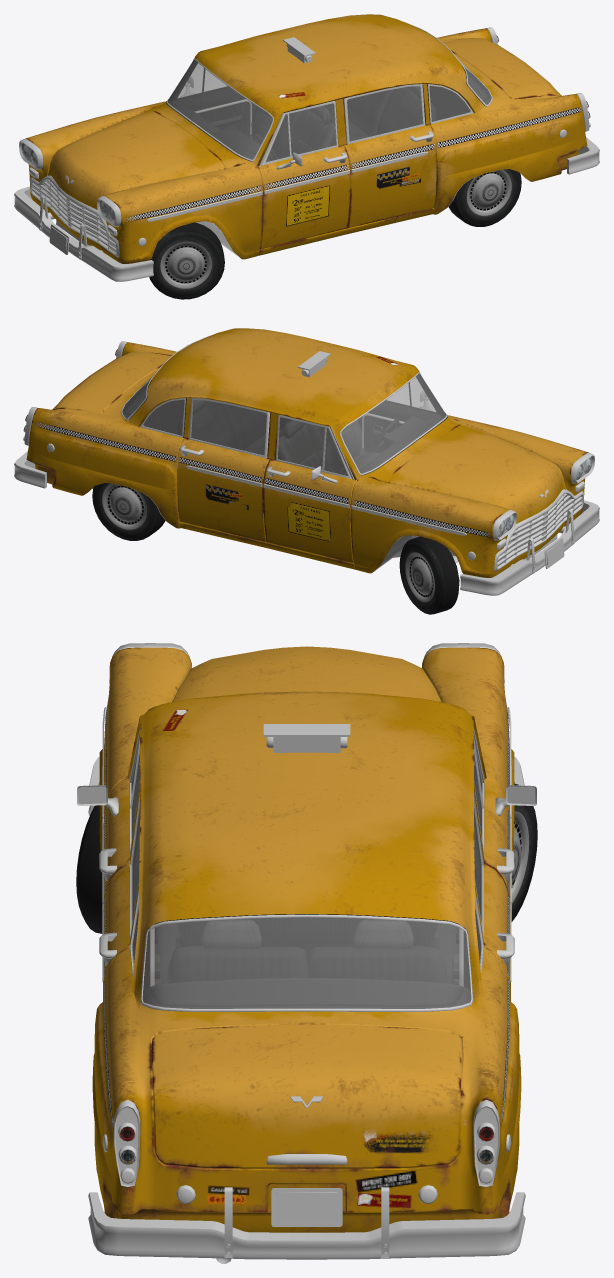
The model's file is Taxicab_old.fbx.
The picture shows the model from 3 angles, top to bottom: view 1: azimuth 30°, elevation 25°; view 2: azimuth 150°, elevation 25°; view 3: azimuth 270°, elevation 25°; orthographic projection. The views are drawn at different scales.
Visible parts, largest first — view 1: Body, Hood, Door_RL, Door_FL, Seats, Windshield, Bottom, Wheel_FL, Trunk_door, Door_Glass_RL, Bumper_front, Wheel_RL (+11 smaller); view 2: Body, Hood, Door_RR, Door_FR, Seats, Windshield, Bottom, Wheel_FR, Trunk_door, Door_Glass_RR, Wheel_RR, Bumper_front (+12 smaller); view 3: Body, Trunk_door, Rear_windows, Seats, Bumper_rear, Interior, Hood, Bottom, Taillights, Door_inner_FL (×2), Wheel_FL, Taxi_rooflight (+11 smaller).
Boxes of the visible parts, x1=… form: Body: x1=25, y1=14, x2=587, y2=263; Hood: x1=48, y1=110, x2=225, y2=209; Door_RL: x1=344, y1=124, x2=436, y2=228; Door_FL: x1=256, y1=145, x2=350, y2=249; Seats: x1=248, y1=86, x2=436, y2=162; Windshield: x1=167, y1=60, x2=272, y2=159; Bottom: x1=29, y1=21, x2=566, y2=258; Wheel_FL: x1=149, y1=222, x2=224, y2=299; Trunk_door: x1=442, y1=38, x2=561, y2=99; Door_Glass_RL: x1=347, y1=86, x2=422, y2=141; Bumper_front: x1=14, y1=186, x2=153, y2=281; Wheel_RL: x1=448, y1=169, x2=521, y2=226; Body: x1=26, y1=328, x2=588, y2=577; Hood: x1=387, y1=424, x2=565, y2=523; Door_RR: x1=177, y1=438, x2=269, y2=541; Door_FR: x1=263, y1=459, x2=357, y2=563; Seats: x1=177, y1=400, x2=380, y2=475; Windshield: x1=341, y1=374, x2=446, y2=473; Bottom: x1=47, y1=335, x2=584, y2=572; Wheel_FR: x1=399, y1=536, x2=459, y2=614; Trunk_door: x1=52, y1=351, x2=172, y2=413; Door_Glass_RR: x1=191, y1=400, x2=266, y2=455; Wheel_RR: x1=92, y1=483, x2=165, y2=540; Bumper_front: x1=460, y1=500, x2=599, y2=595; Body: x1=92, y1=647, x2=521, y2=1232; Trunk_door: x1=151, y1=1024, x2=462, y2=1168; Rear_windows: x1=131, y1=898, x2=482, y2=1008; Seats: x1=167, y1=914, x2=447, y2=983; Bumper_rear: x1=88, y1=1187, x2=525, y2=1259; Interior: x1=132, y1=753, x2=481, y2=1008; Hood: x1=172, y1=646, x2=441, y2=702; Bottom: x1=94, y1=707, x2=519, y2=1226; Taillights: x1=114, y1=1099, x2=499, y2=1186; Door_inner_FL (×2): x1=77, y1=727, x2=140, y2=982; Wheel_FL: x1=76, y1=805, x2=102, y2=933; Taxi_rooflight: x1=263, y1=724, x2=350, y2=752.
Size of the model in its own units: 209 by 84.09 by 71.52.
